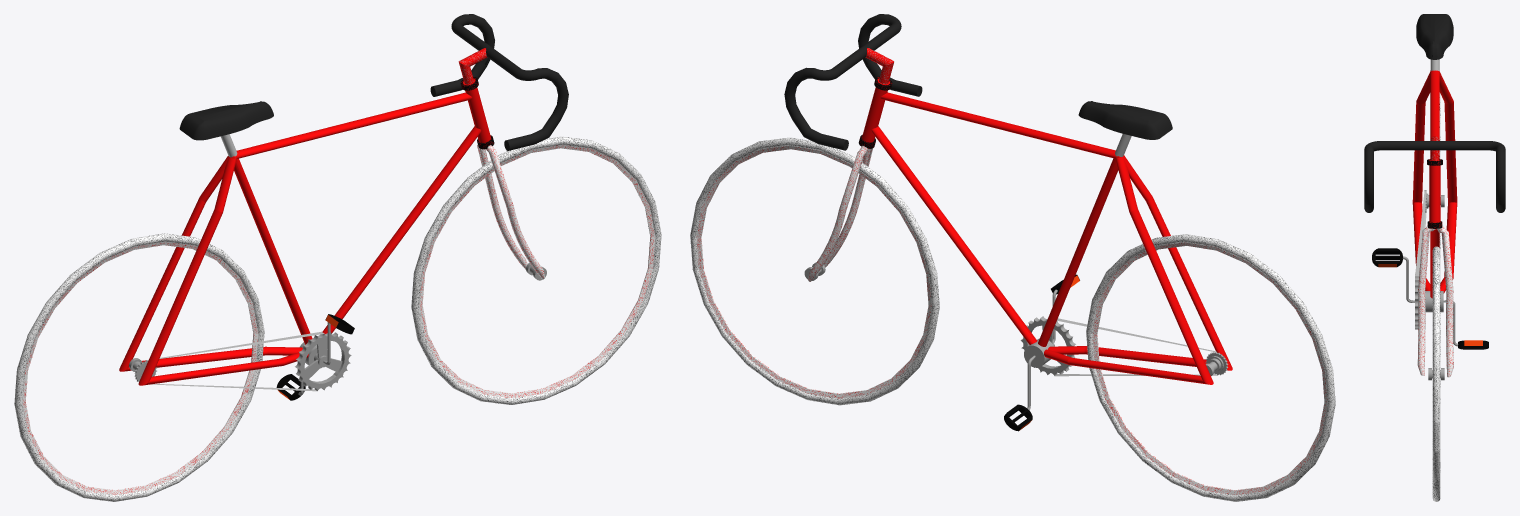
Rendered from Red_Road_Bike.dae.
The picture shows the model from 3 angles, left to right: view 1: azimuth 30°, elevation 25°; view 2: azimuth 150°, elevation 25°; view 3: azimuth 270°, elevation 25°; orthographic projection. The views are drawn at different scales.
Visible parts, largest first — view 1: kotač__1 (×4), SketchUp (×3), VOLAN (×2), sjedalo, pogon (×2); view 2: kotač__1 (×4), SketchUp (×3), VOLAN (×2), sjedalo, pogon; view 3: SketchUp (×4), VOLAN (×2), kotač__1, sjedalo, skica, pogon (×2), pedala.
Boxes of the visible parts, x1,y1,x2,y2 form: kotač__1 (×4): (14,136,661,501); SketchUp (×3): (119,92,544,385); VOLAN (×2): (430,14,568,150); sjedalo: (179,101,273,140); pogon (×2): (295,332,351,390); kotač__1 (×4): (690,137,1335,501); SketchUp (×3): (808,92,1232,384); VOLAN (×2): (784,14,922,150); sjedalo: (1078,101,1172,139); pogon: (1020,316,1075,375); SketchUp (×4): (1412,70,1457,376); VOLAN (×2): (1364,141,1505,212); kotač__1: (1432,246,1440,501); sjedalo: (1416,14,1453,59); skica: (1429,165,1440,222); pogon (×2): (1415,274,1443,329); pedala: (1372,248,1402,266).
Bounding box in the file's own units: 57.81 × 12.26 × 31.52.
